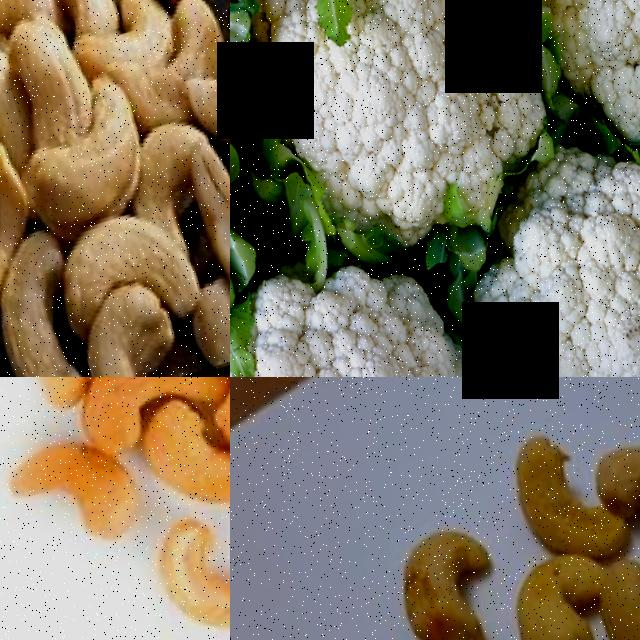cashew: (16, 115, 181, 281), (0, 414, 139, 583), (364, 489, 506, 640), (491, 377, 600, 565), (38, 192, 194, 308), (102, 506, 230, 640), (128, 392, 230, 541), (2, 10, 102, 158), (59, 287, 203, 377), (0, 264, 94, 377), (170, 132, 230, 308), (485, 549, 599, 640), (577, 398, 640, 561), (145, 3, 224, 100), (0, 30, 45, 198), (177, 249, 230, 377), (582, 546, 640, 640), (0, 140, 21, 285)
cauliflower: (230, 0, 580, 304), (230, 216, 516, 377), (462, 123, 640, 377), (496, 0, 640, 183)
